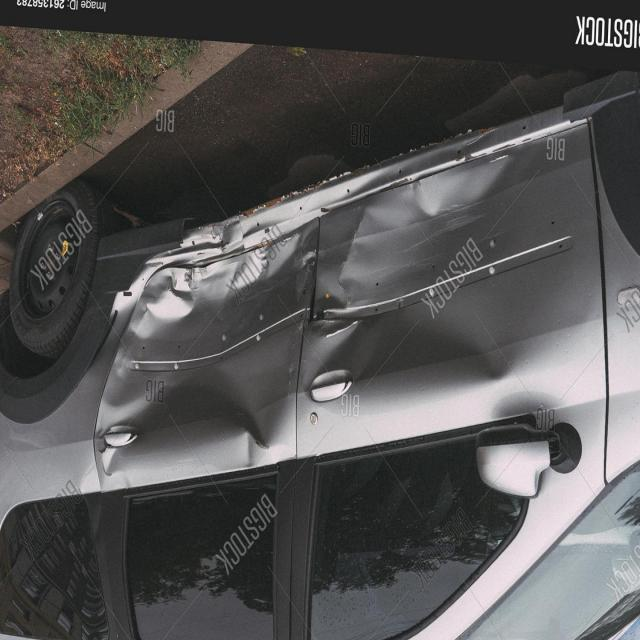dent: (60, 140, 517, 505)
